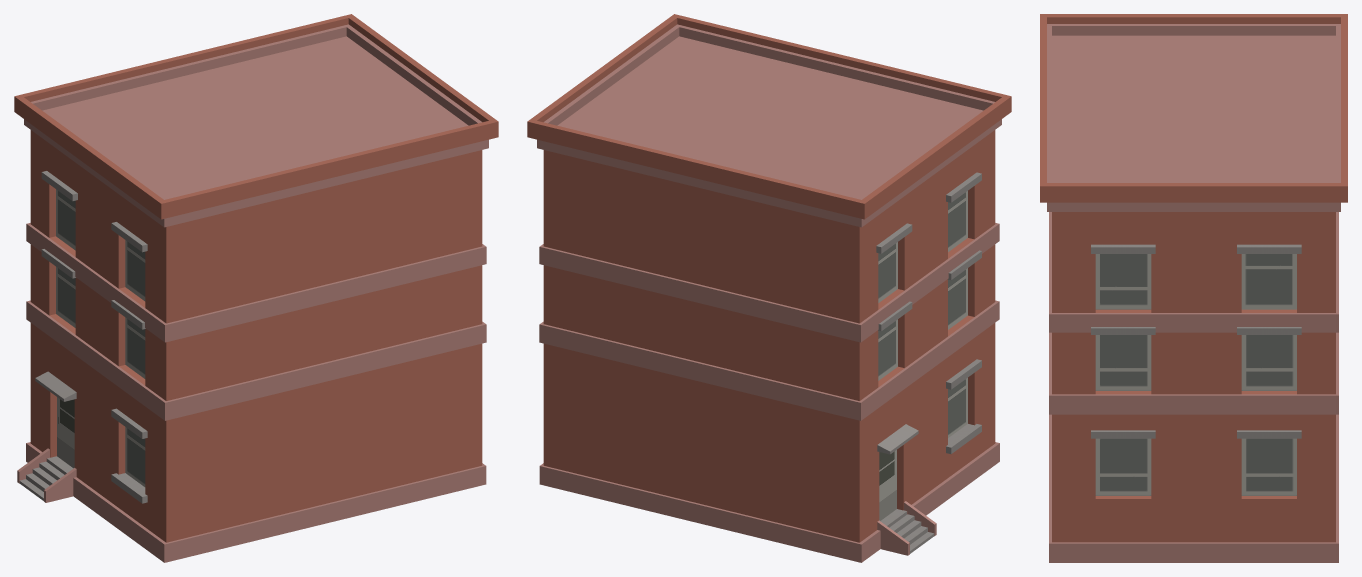
Rendered from house6.fbx.
The picture shows the model from 3 angles, left to right: view 1: azimuth 30°, elevation 25°; view 2: azimuth 150°, elevation 25°; view 3: azimuth 270°, elevation 25°; orthographic projection. The views are drawn at different scales.
Visible parts, largest first — view 1: sptp_building_09; view 2: sptp_building_09; view 3: sptp_building_09.
Part boxes in pixels (x1,y1,x2,y2): sptp_building_09: (14,14,498,562); sptp_building_09: (527,14,1011,562); sptp_building_09: (1040,14,1347,562).
Size of the model in its own units: 955 by 929 by 681.
1 material, 1 textured.
